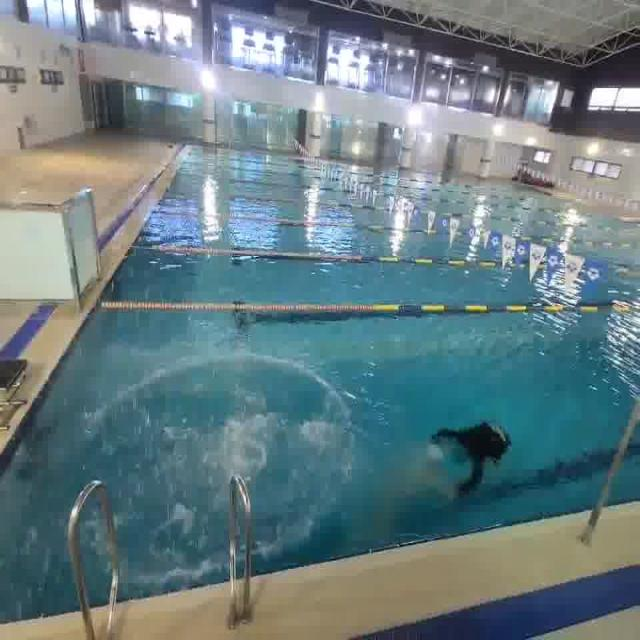Drowning: (431, 398, 523, 501)
